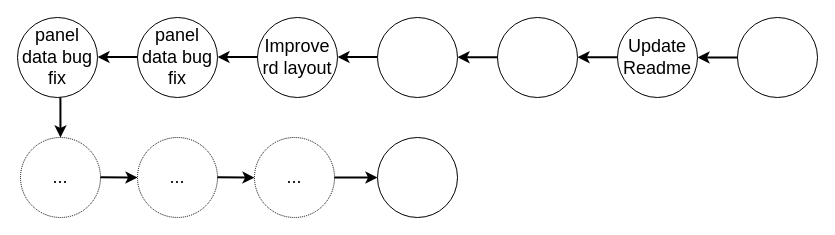
This 835x235 diagram has some shape labels left out. Each missing label, with the centre of its shape:
"Better ballot fn" goes at point 537,57.
"Current State" goes at point 777,57.
"Initial state" goes at point 417,177.
"Update to 2024 data" goes at point 417,57.
